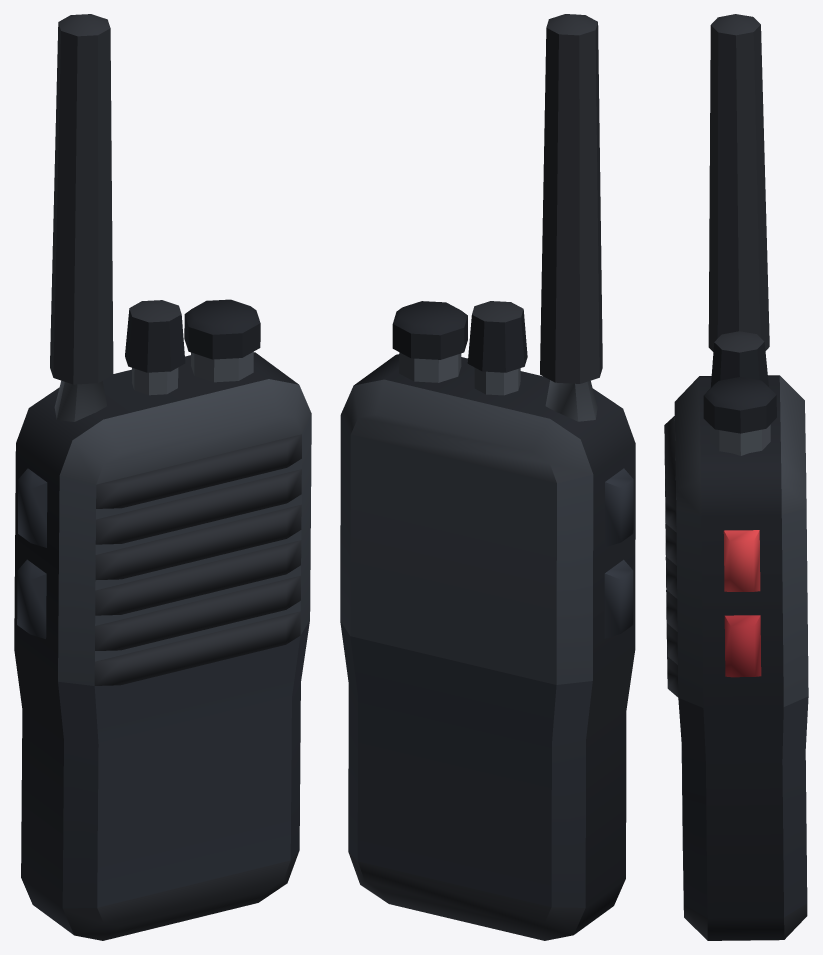
File: radio_comunicador_pacote.glb
The picture shows the model from 3 angles, left to right: view 1: azimuth 30°, elevation 25°; view 2: azimuth 150°, elevation 25°; view 3: azimuth 270°, elevation 25°; orthographic projection. The views are drawn at different scales.
Visible parts, largest first — view 1: radio_comunicador_pacote; view 2: radio_comunicador_pacote; view 3: radio_comunicador_pacote.
Part boxes in pixels (x1,y1,x2,y2): radio_comunicador_pacote: (14, 14, 311, 940); radio_comunicador_pacote: (340, 14, 635, 940); radio_comunicador_pacote: (664, 14, 808, 940).
Bounding box in the file's own units: 0.1044 × 0.3267 × 0.0501.
1 material, 1 textured.
